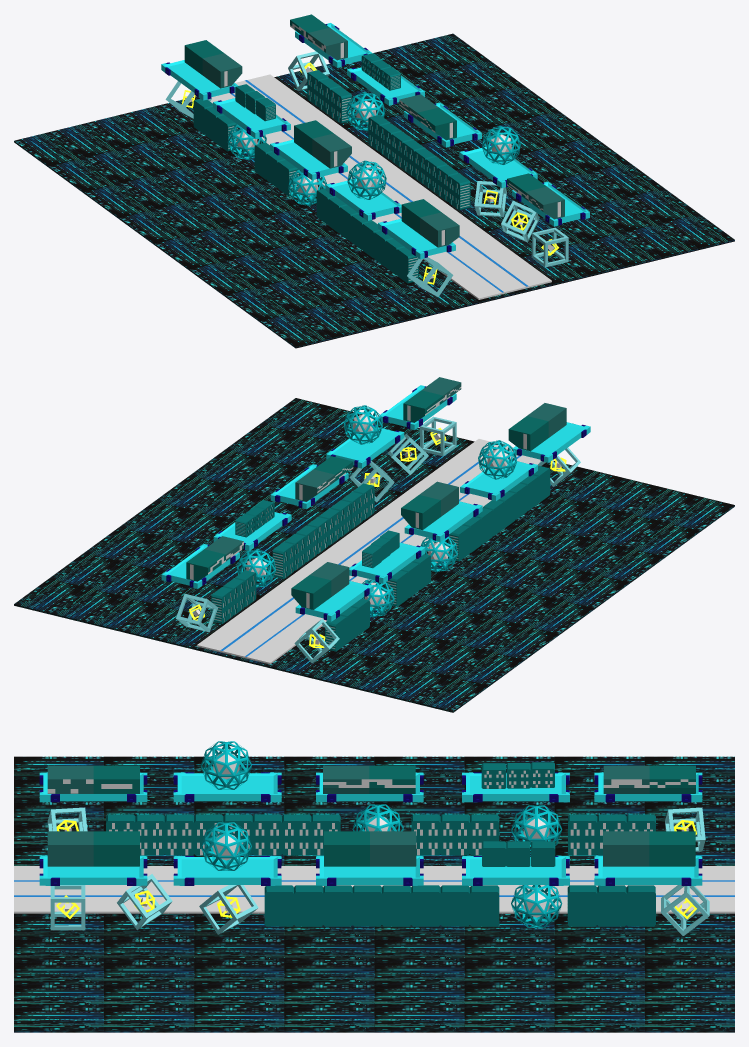
The model's file is 80LengthTileset.fbx.
3 renders of one model, top to bottom at view 1: azimuth 30°, elevation 25°; view 2: azimuth 150°, elevation 25°; view 3: azimuth 270°, elevation 25°, orthographic. The views are drawn at different scales.
Visible parts, largest first — view 1: Cube.021, Cube.108, Cube.112, Cube.109, Cube.105, Cube.037, Cube.129, Cube.131, Cube.133, Cube.013, Cube.028, Cube.030 (+78 smaller); view 2: Cube.021, Cube.108, Cube.112, Cube.109, Cube.105, Cube.098, Cube.084, Cube.129, Cube.131, Cube.133, Cube.085, Cube.078 (+79 smaller); view 3: Cube.021, Cube.129, Cube.131, Cube.133, Cube.105, Cube.098, Cube.109, Cube.108, Cube.112, Cube.102, Cube.041, Cube.042 (+113 smaller).
Part boxes in pixels (x1,y1,x2,y2): Cube.021: [210, 74, 551, 299]; Cube.108: [401, 199, 459, 247]; Cube.112: [184, 40, 242, 88]; Cube.109: [294, 120, 351, 168]; Cube.105: [325, 177, 401, 220]; Cube.037: [260, 312, 332, 348]; Cube.129: [507, 173, 564, 219]; Cube.131: [399, 94, 456, 140]; Cube.133: [290, 14, 347, 60]; Cube.013: [370, 285, 442, 321]; Cube.028: [334, 294, 405, 330]; Cube.030: [297, 303, 368, 339]; Cube.021: [197, 439, 540, 664]; Cube.108: [508, 403, 566, 451]; Cube.112: [291, 562, 349, 609]; Cube.109: [401, 481, 458, 530]; Cube.105: [460, 458, 537, 501]; Cube.098: [326, 425, 404, 468]; Cube.084: [416, 676, 488, 712]; Cube.129: [403, 377, 461, 422]; Cube.131: [295, 456, 353, 501]; Cube.133: [186, 536, 243, 581]; Cube.085: [14, 578, 85, 614]; Cube.078: [306, 650, 378, 685]; Cube.021: [14, 866, 734, 913]; Cube.129: [47, 831, 139, 866]; Cube.131: [324, 831, 416, 866]; Cube.133: [603, 831, 695, 866]; Cube.105: [173, 772, 281, 802]; Cube.098: [173, 856, 281, 885]; Cube.109: [323, 765, 415, 793]; Cube.108: [47, 765, 139, 793]; Cube.112: [603, 765, 695, 793]; Cube.102: [462, 856, 569, 885]; Cube.041: [104, 1008, 194, 1032]; Cube.042: [194, 1008, 284, 1032].
Bounding box in the file's own units: 144 × 160 × 28.25.
